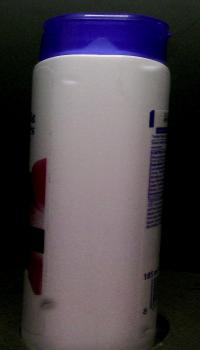dent_marginal: (137, 62, 174, 78), (59, 74, 92, 90), (38, 297, 70, 311), (134, 320, 157, 336)
